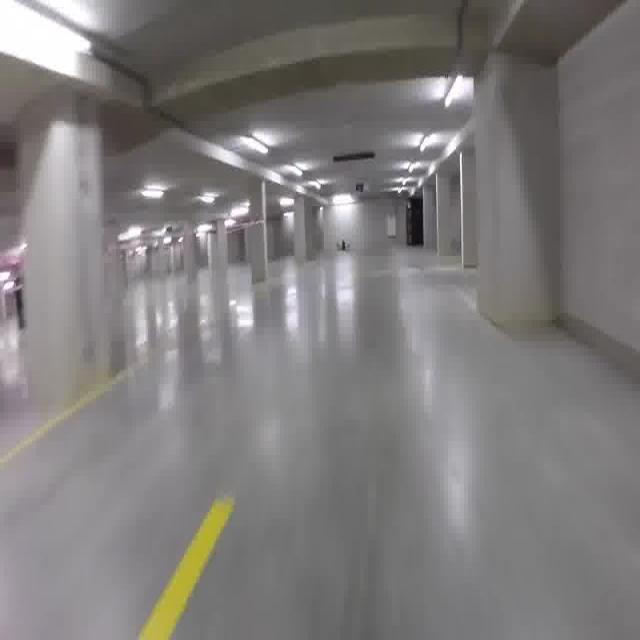drones: (332, 230, 353, 258)
